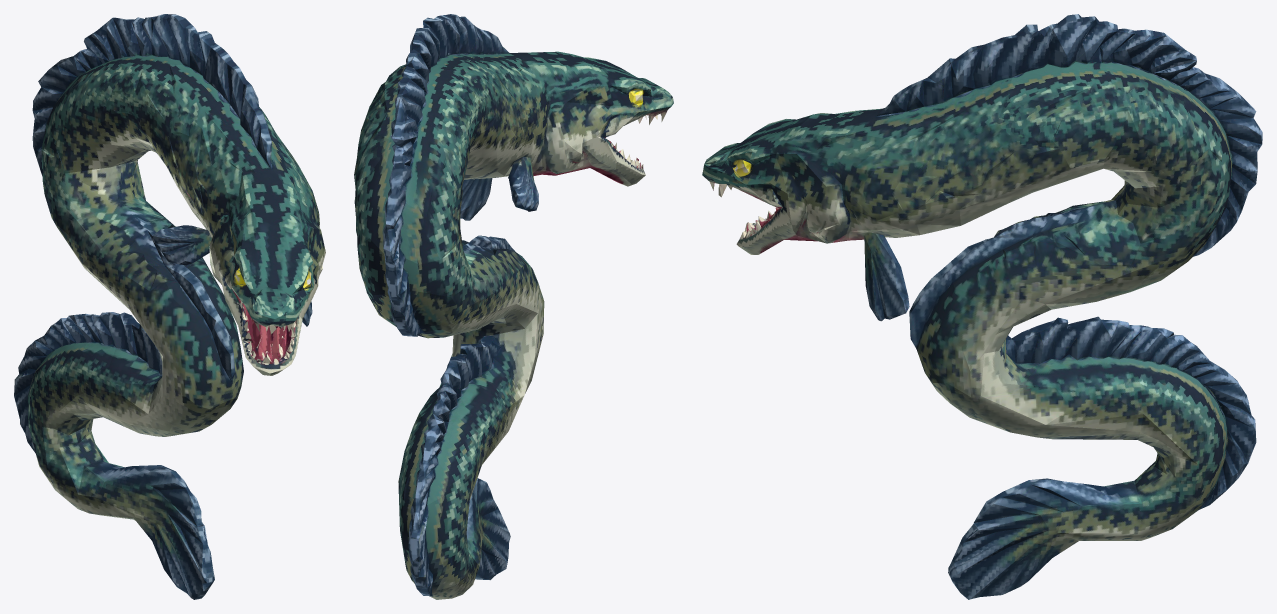
Rendered from river_eel_optimized.glb.
3 renders of one model, left to right at view 1: azimuth 30°, elevation 25°; view 2: azimuth 150°, elevation 25°; view 3: azimuth 270°, elevation 25°, orthographic. The views are drawn at different scales.
Visible parts, largest first — view 1: output_unwrapped; view 2: output_unwrapped; view 3: output_unwrapped.
Part boxes in pixels (left/top/right/bottom): output_unwrapped: left=14, top=14, right=325, bottom=599; output_unwrapped: left=354, top=14, right=673, bottom=599; output_unwrapped: left=702, top=14, right=1262, bottom=599.
Bounding box in the file's own units: 0.5492 × 1.9 × 1.62.
1 material, 1 textured.
